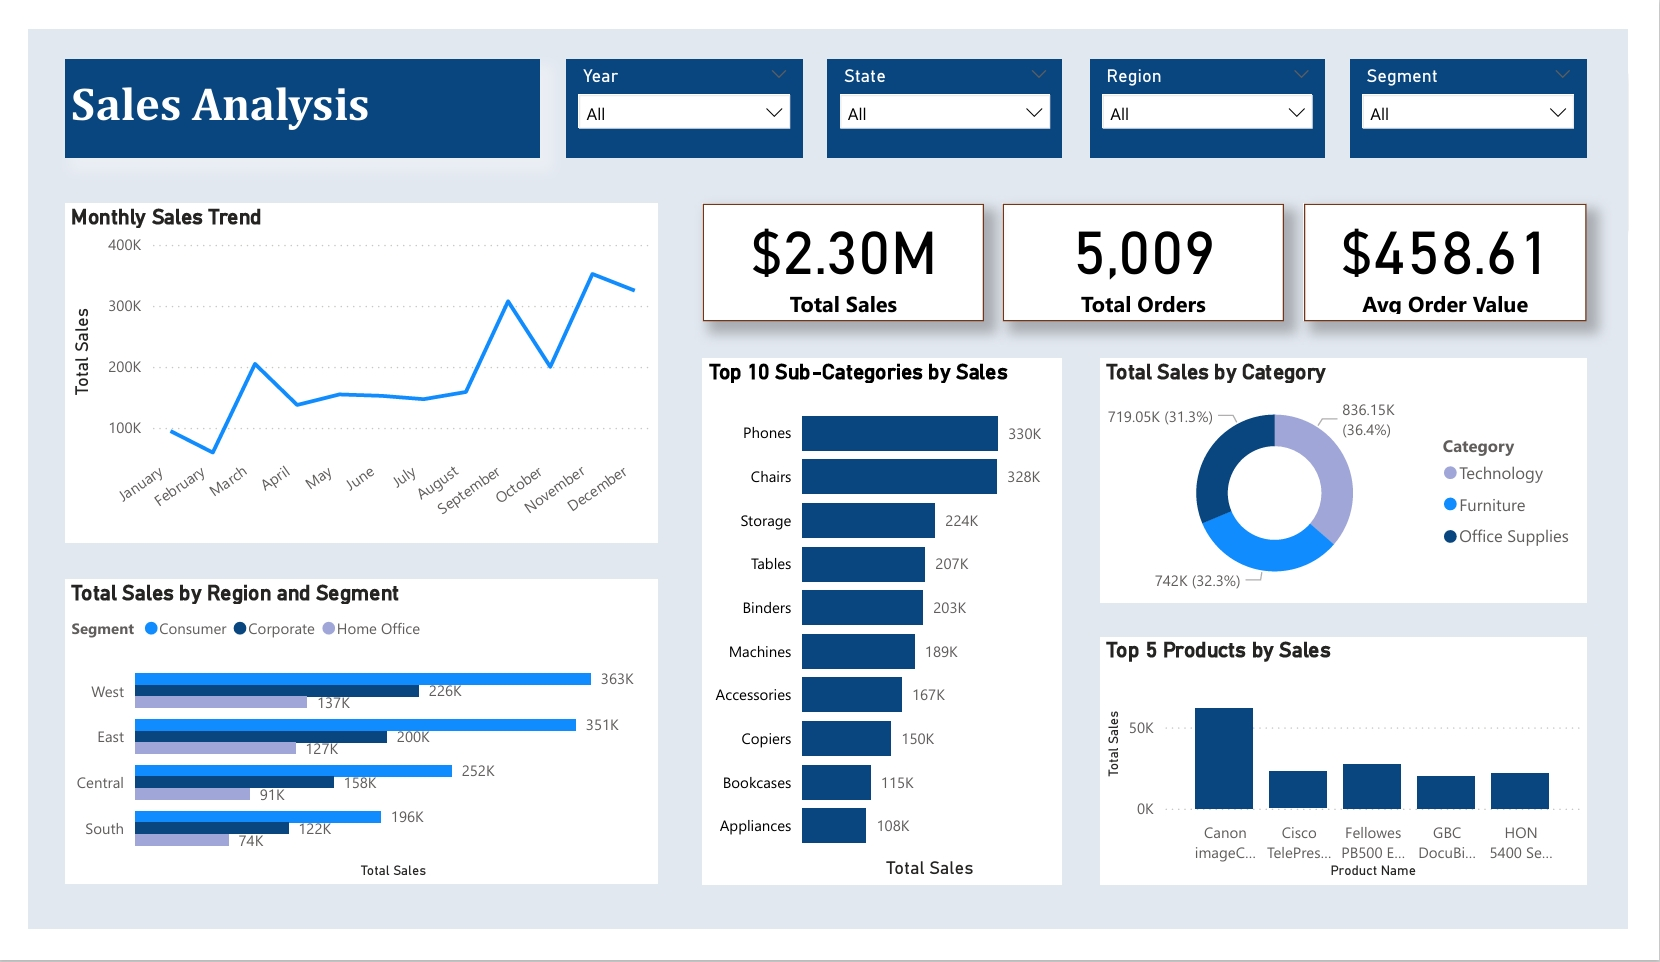

What the dashboard file says about the page in this screenshot:
{"tool":"powerbi","page":{"name":"Sales Analysis","canvas":[1280,720],"ordinal":1},"visuals":[{"type":"card","fields":{"Values":["Orders1.Avg Order Value"]},"box":[1020,138.6,225.7,94.3],"z":0},{"type":"card","fields":{"Values":["Orders1.Total Orders"]},"box":[778.6,138.6,225.7,94.3],"z":1000},{"type":"card","fields":{"Values":["Orders1.Total Sales"]},"box":[538.6,138.6,225.7,94.3],"z":2000},{"type":"slicer","fields":{"Values":["Orders1.State"]},"box":[638.6,24.3,188.6,78.6],"z":3000},{"type":"slicer","fields":{"Values":["Orders1.Region"]},"box":[848.6,24.3,188.6,78.6],"z":4000},{"type":"slicer","fields":{"Values":["Orders1.Segment"]},"box":[1057.1,24.3,188.6,78.6],"z":5000},{"type":"barChart","title":"Top 10 Sub-Categories by Sales","fields":{"Category":["Orders1.Sub-Category","Orders1.Product Name"],"Y":["Orders1.Total Sales"]},"box":[538.6,262.9,288.6,421.4],"z":6000},{"type":"textbox","box":[28.6,24.3,380,78.6],"z":7000},{"type":"lineChart","title":"Monthly Sales Trend","fields":{"Y":["Orders1.Total Sales"],"Category":["Orders1.Order Date.Variation.Date Hierarchy.Month"]},"box":[28.6,138.6,474.3,272.9],"z":8000},{"type":"clusteredBarChart","fields":{"Category":["Orders1.Region"],"Series":["Orders1.Segment"],"Y":["Orders1.Total Sales"]},"box":[28.6,440,474.3,244.3],"z":9000},{"type":"donutChart","fields":{"Category":["Orders1.Category"],"Y":["Orders1.Total Sales"]},"box":[857.1,262.9,388.6,195.7],"z":10000},{"type":"columnChart","title":"Top 5 Products by Sales","fields":{"Category":["Orders1.Product Name"],"Y":["Orders1.Total Sales"]},"box":[857.1,485.7,388.6,198.6],"z":11000},{"type":"slicer","fields":{"Values":["Orders1.Order Date.Variation.Date Hierarchy.Year"]},"box":[430,24.3,188.6,78.6],"z":12000}]}

Visuals, with their boxes in screenshot pixels (x1, y1, x2, y2), scaled from the page's 1280x720 canvas onto the 1660x962 screenshot:
card - Orders1.Avg Order Value: region(1323, 185, 1616, 311)
card - Orders1.Total Orders: region(1010, 185, 1302, 311)
card - Orders1.Total Sales: region(698, 185, 991, 311)
slicer - Orders1.State: region(828, 32, 1073, 137)
slicer - Orders1.Region: region(1101, 32, 1345, 137)
slicer - Orders1.Segment: region(1371, 32, 1616, 137)
"Top 10 Sub-Categories by Sales" barChart: region(698, 351, 1073, 914)
textbox: region(37, 32, 530, 137)
"Monthly Sales Trend" lineChart: region(37, 185, 652, 550)
clusteredBarChart - Orders1.Region x Orders1.Segment: region(37, 588, 652, 914)
donutChart - Orders1.Category x Orders1.Total Sales: region(1112, 351, 1616, 613)
"Top 5 Products by Sales" columnChart: region(1112, 649, 1616, 914)
slicer - Orders1.Order Date.Variation.Date Hierarchy.Year: region(558, 32, 802, 137)
